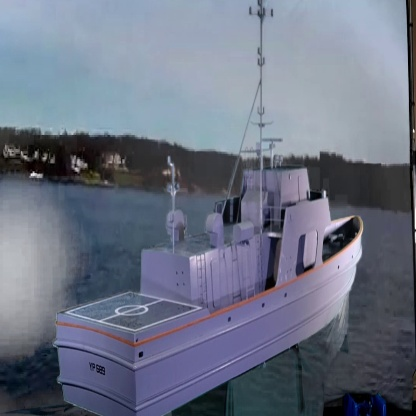YP689: (52, 0, 365, 416)
